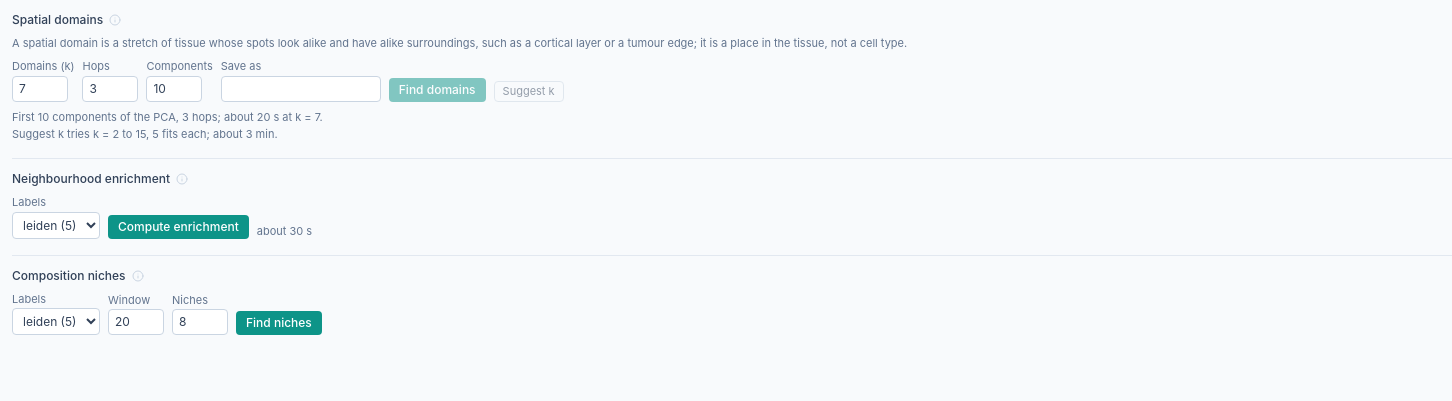
Test: SpatialDomainsSubtab › runs niches where they are allowed and draws the niche table
Click the button "Find niches".
click(279, 323)  # box [236,311,322,335]
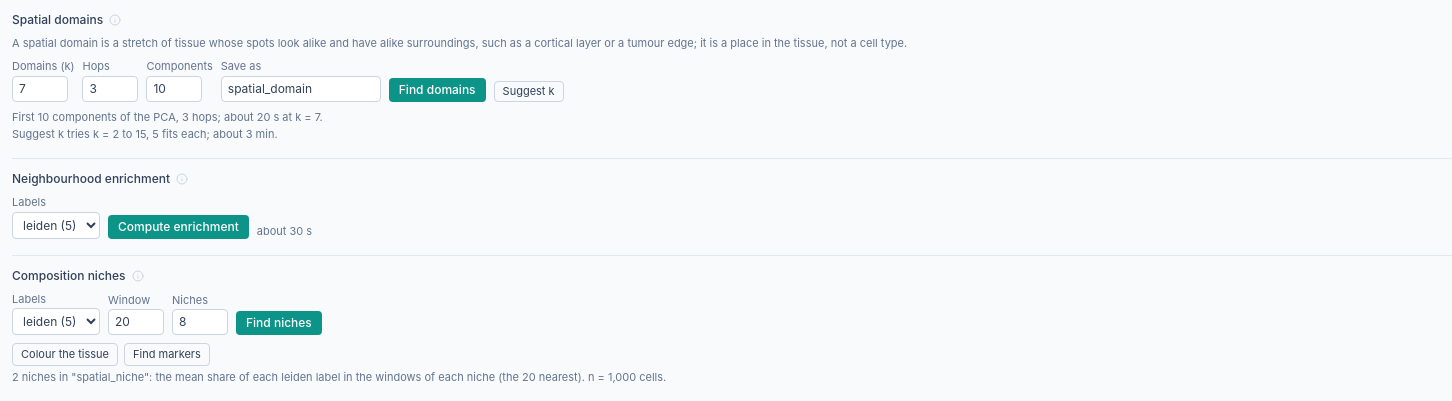
Check: the element with test id "niche-heatmap" shows "2 niches in \"spatial_niche\"", box [12,343,666,384]
